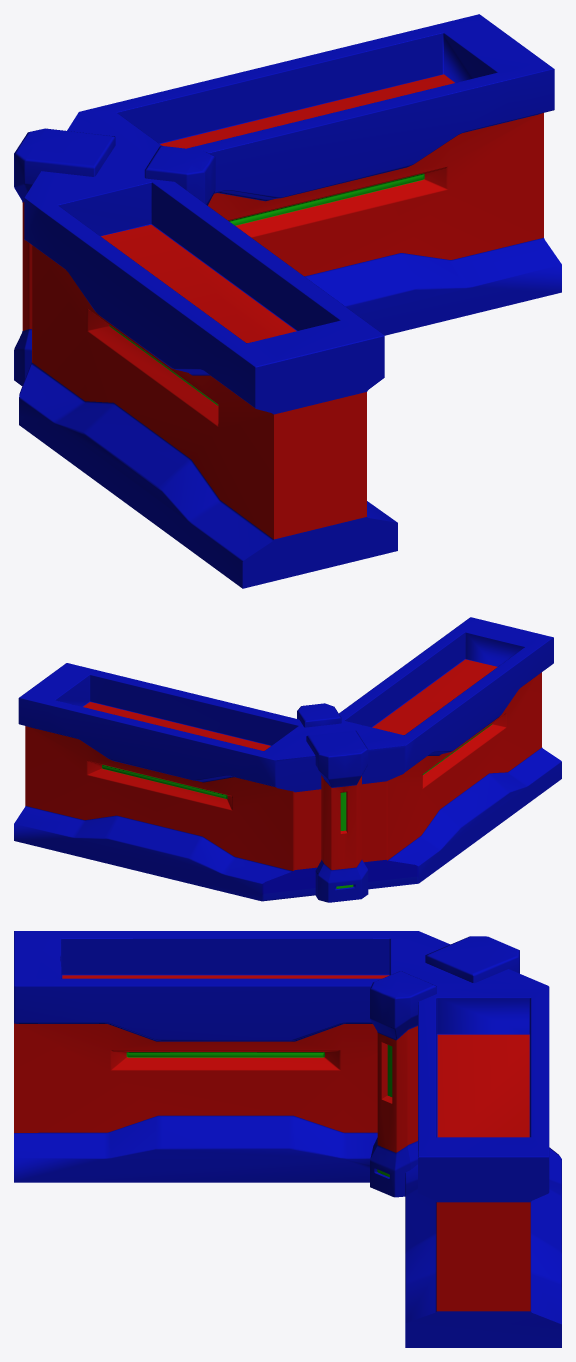
Rendered from WallCorner.fbx.
3 views of the same model, one above another, from view 1: azimuth 30°, elevation 25°; view 2: azimuth 150°, elevation 25°; view 3: azimuth 270°, elevation 25° (orthographic). The views are drawn at different scales.
Visible parts, largest first — view 1: Corner.000; view 2: Corner.000; view 3: Corner.000.
Part boxes in pixels (box(x1,y1,x2,y2)): Corner.000: box(14, 14, 561, 588); Corner.000: box(14, 617, 561, 902); Corner.000: box(14, 931, 561, 1347).
Size of the model in its own units: 1300 by 521 by 1300.
